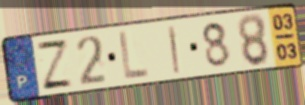2: (74, 34, 108, 88)
8: (236, 12, 271, 69), (201, 20, 234, 69)
I: (166, 23, 182, 76)
L: (117, 29, 150, 82)
Z: (34, 38, 76, 92)
